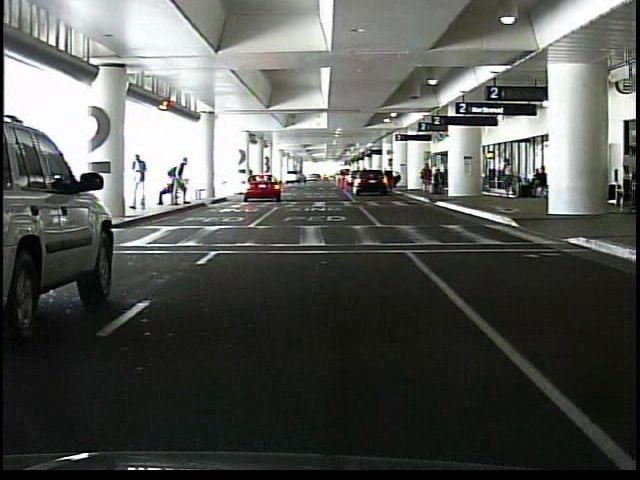person: (167, 159, 194, 206), (131, 153, 148, 210), (156, 171, 182, 207), (418, 163, 434, 196), (620, 143, 635, 177), (502, 158, 514, 199), (439, 166, 440, 194)
